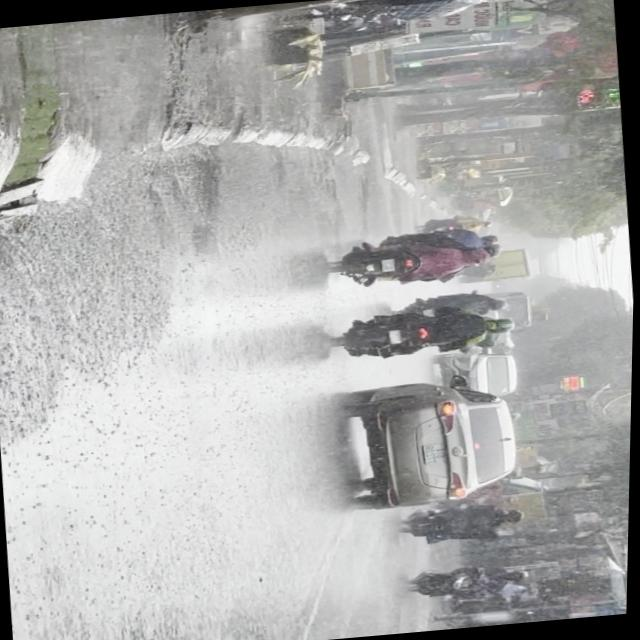licenseplate: (332, 302, 522, 364)
